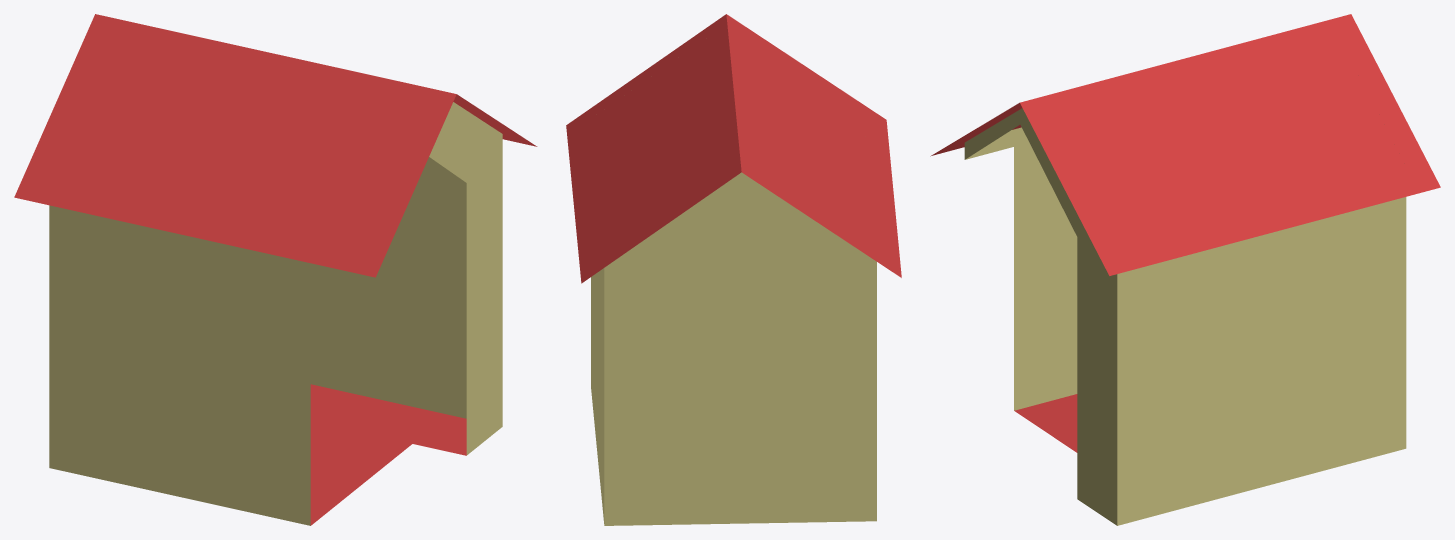
3 renders of one model, left to right at view 1: azimuth 30°, elevation 25°; view 2: azimuth 150°, elevation 25°; view 3: azimuth 270°, elevation 25°, orthographic. The views are drawn at different scales.
Bounding box in the file's own units: 14.78 × 15.31 × 12.5.
